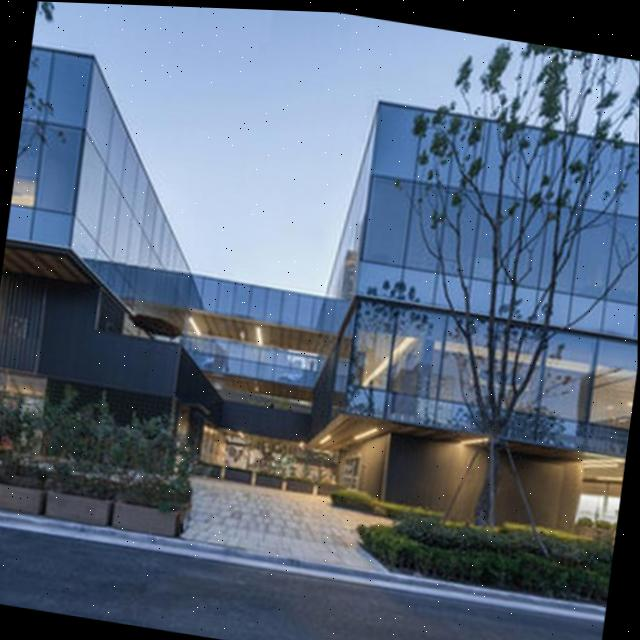building: (0, 38, 640, 550)
